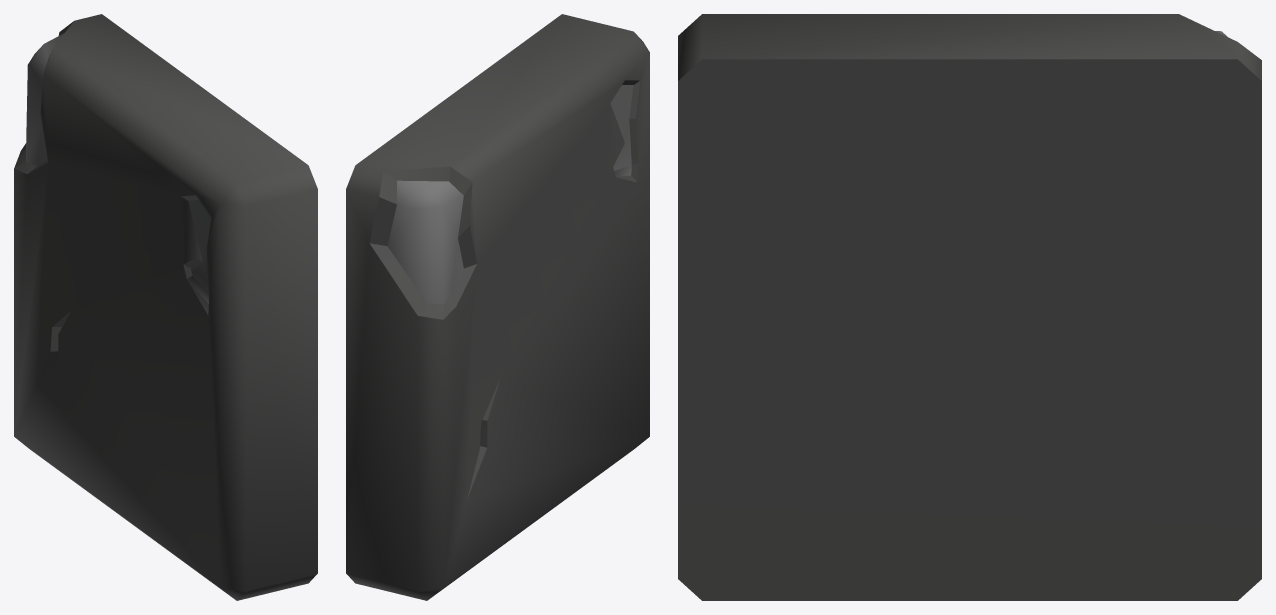
File: Table_1_4.obj
The picture shows the model from 3 angles, left to right: view 1: azimuth 30°, elevation 25°; view 2: azimuth 150°, elevation 25°; view 3: azimuth 270°, elevation 25°; orthographic projection. The views are drawn at different scales.
Parts seen in each view (by area): view 1: Table_1_4; view 2: Table_1_4; view 3: Table_1_4.
Boxes of the visible parts, bbox=[...] form: Table_1_4: bbox=[14, 14, 317, 600]; Table_1_4: bbox=[346, 14, 649, 600]; Table_1_4: bbox=[678, 14, 1261, 600].
Size of the model in its own units: 0.0894 by 0.4067 by 0.3972.
